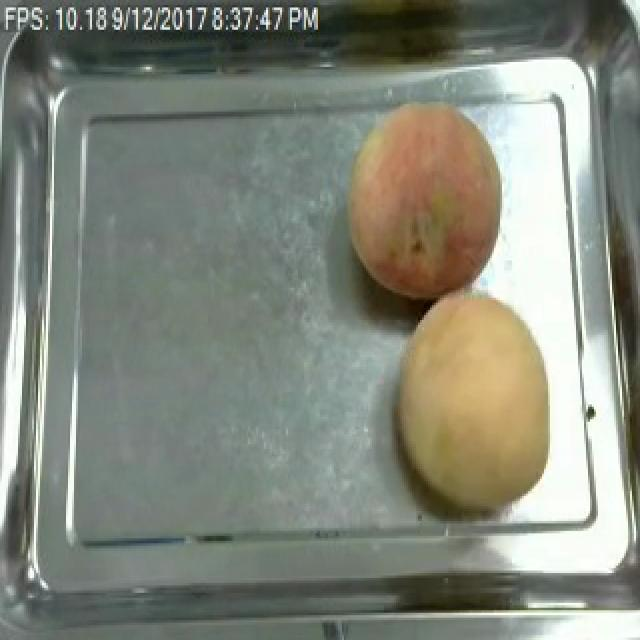Fruit: (384, 286, 566, 518), (336, 91, 512, 308)
